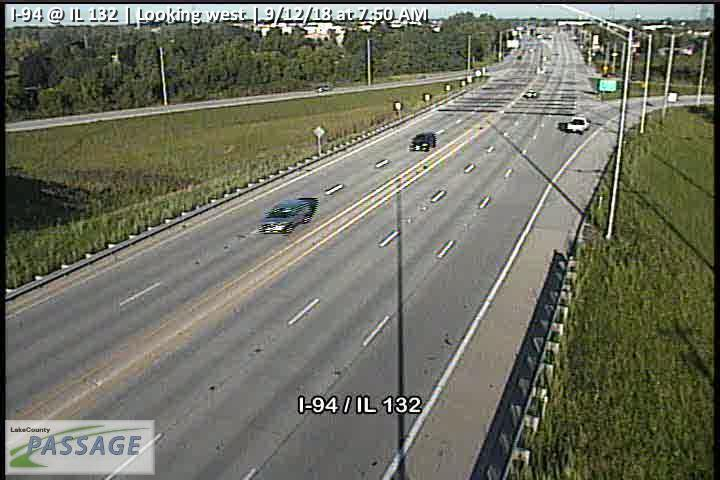Sedan: (260, 198, 313, 235), (410, 133, 436, 152), (568, 116, 592, 133)
